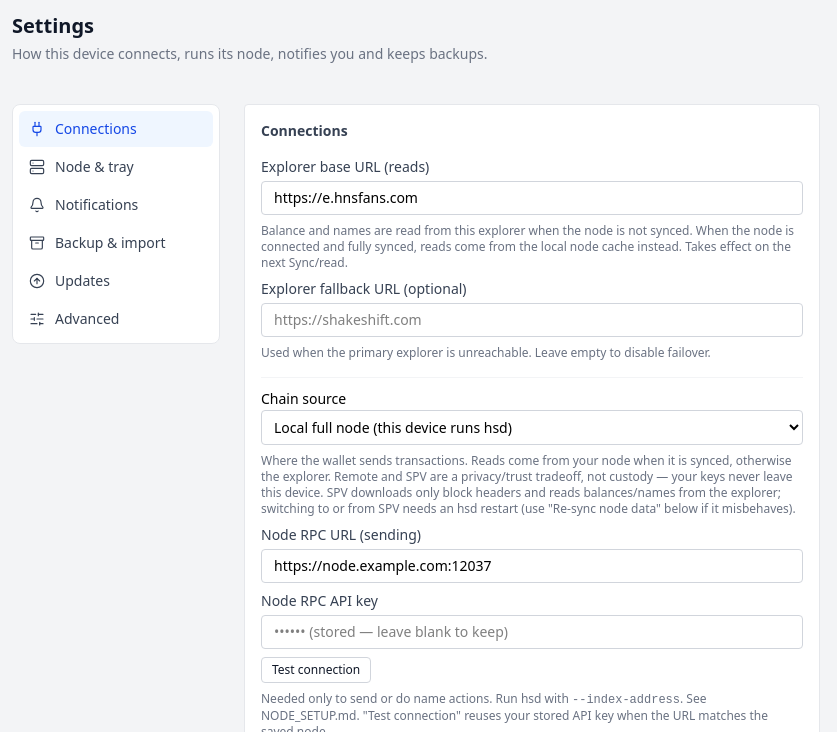
Test case: Settings — Test connection › flags a cross-network node next to the green Connected line
The width and height of the screenshot is (837, 732).
Click the button with test id "test-connection-button": (316, 670) x1=261 y1=657 x2=371 y2=683
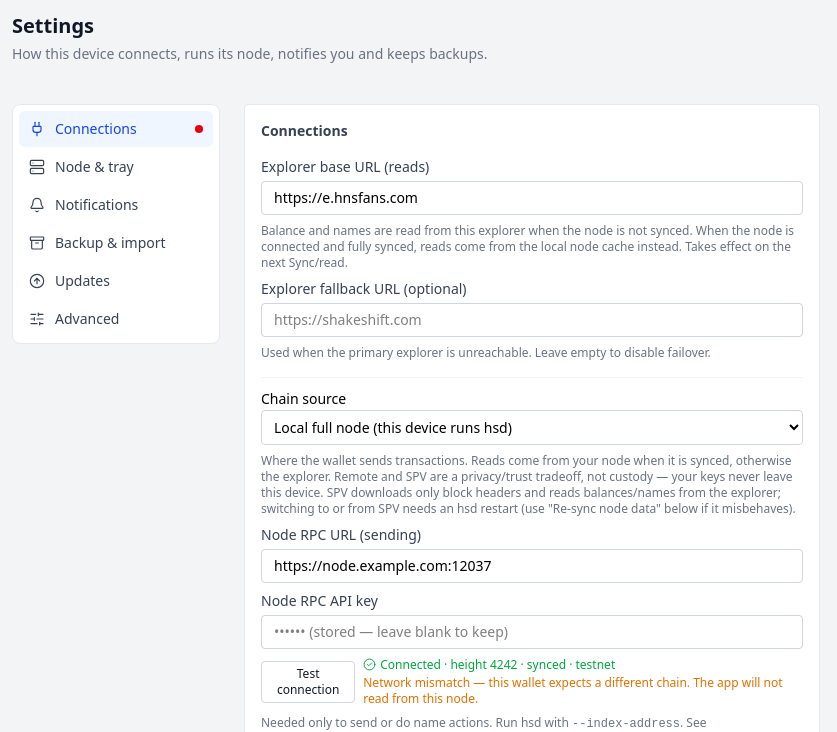
Expected: the text with test id "connection-network-mismatch" shows "mismatch", x1=363 y1=674 x2=783 y2=707
Expected: the element with test id "connection-success" is shown, x1=363 y1=657 x2=803 y2=707
